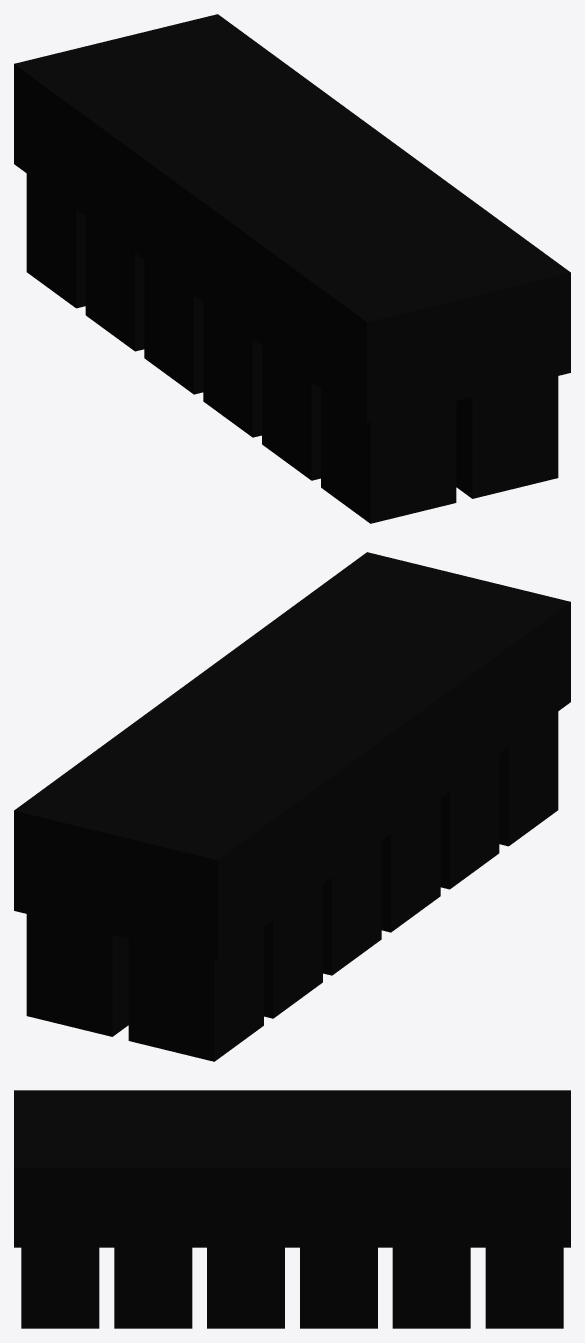
File: 12Pines.fbx
3 renders of one model, top to bottom at view 1: azimuth 30°, elevation 25°; view 2: azimuth 150°, elevation 25°; view 3: azimuth 270°, elevation 25°, orthographic. The views are drawn at different scales.
Visible parts, largest first — view 1: Pineto.001; view 2: Pineto.001; view 3: Pineto.001.
Part boxes in pixels (x1,y1,x2,y2): Pineto.001: (14, 14, 570, 523); Pineto.001: (14, 552, 570, 1061); Pineto.001: (14, 1090, 570, 1328).
Size of the model in its own units: 200 by 194 by 600.
Materials: 1 (1 with a texture image).
